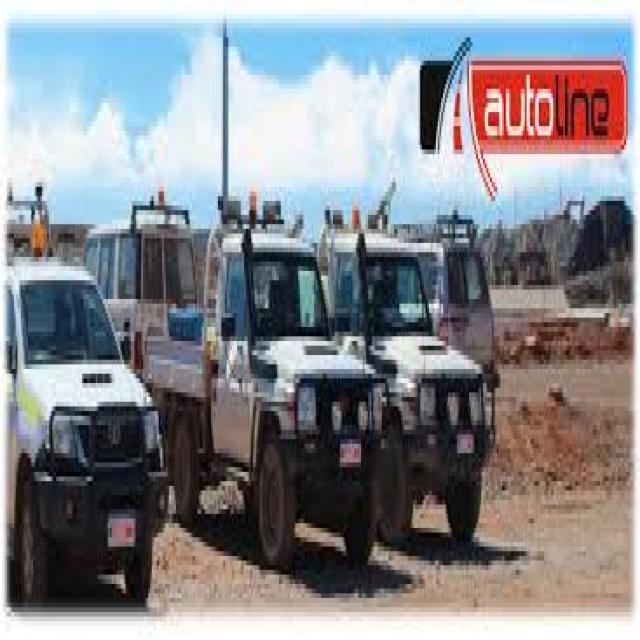light_vehicle: (136, 182, 382, 570), (323, 210, 497, 584), (0, 205, 167, 569)
